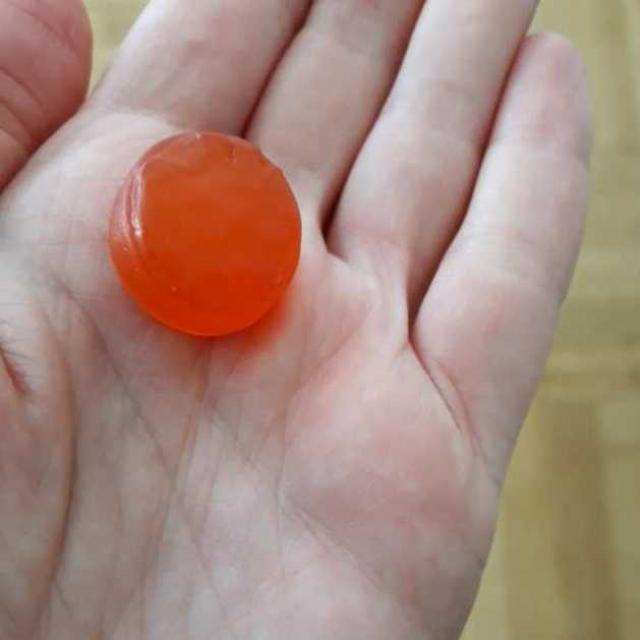candy: (106, 126, 303, 340)
